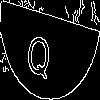Q: (25, 25, 53, 81)
